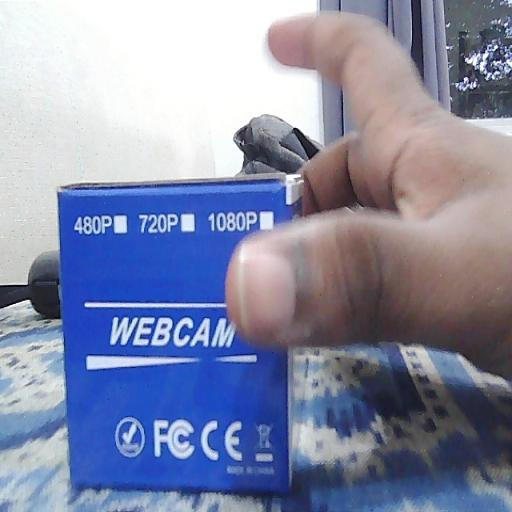webcam_box: (58, 171, 300, 500)
